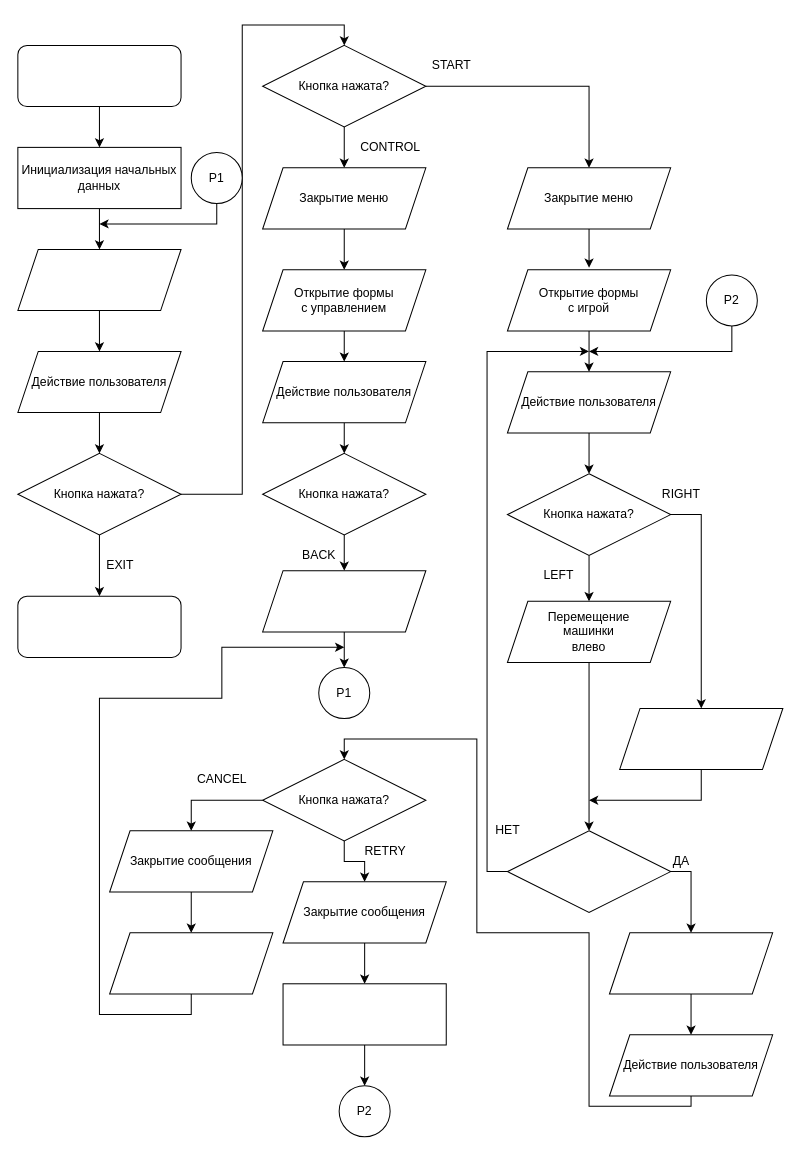
The diagram is 801 pixels wide and 1155 high, and some of its shapes have lost their labels. Each missing label, with the box of its shape:
Возвращение данных к начальным значениям: (282, 983, 446, 1045)
Вывод главного меню: (17, 248, 181, 311)
Вывод сообщения GAME OVER!: (608, 932, 773, 994)
Закрытие формы с игрой: (109, 932, 273, 994)
Закрытие формы с управлением: (262, 570, 426, 632)
Конец: (17, 595, 181, 657)
Начало: (17, 44, 181, 107)
Перемещение машинки вправо: (619, 707, 783, 770)
Столкновение?: (506, 830, 671, 912)
